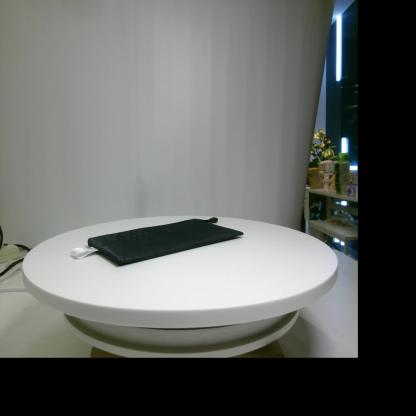Stationery: (70, 217, 244, 265)
